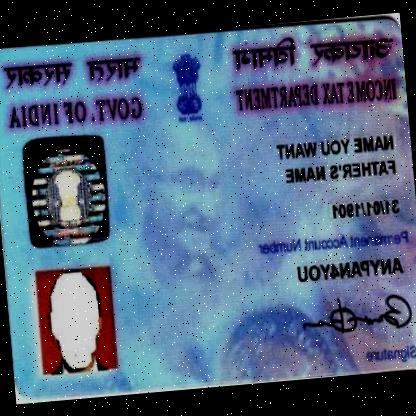pan_card: (0, 12, 415, 412)
